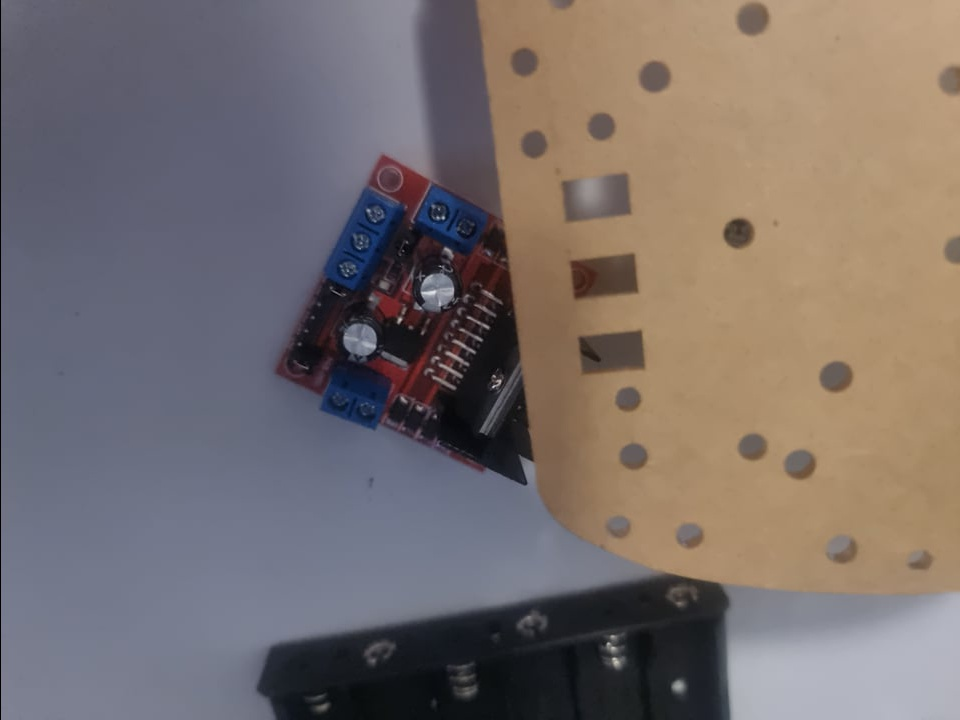BATTERY BOX: (253, 577, 750, 720)
MOTOR: (274, 154, 583, 492)
